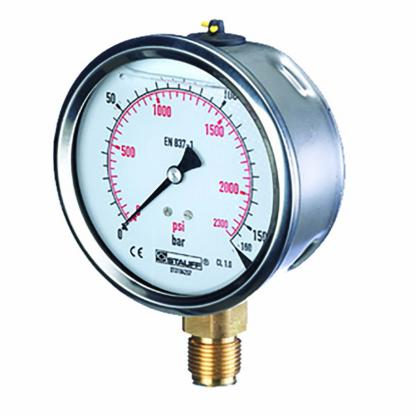needle: (123, 177, 174, 226)
